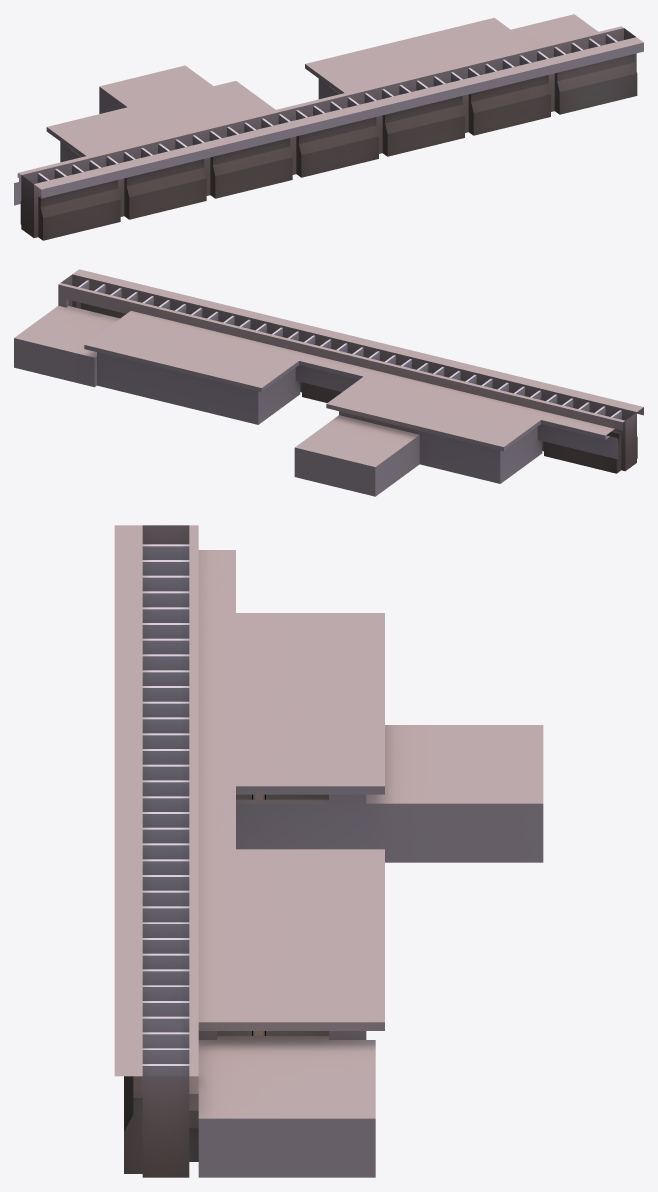
File: blockout3.fbx
The picture shows the model from 3 angles, top to bottom: view 1: azimuth 30°, elevation 25°; view 2: azimuth 150°, elevation 25°; view 3: azimuth 270°, elevation 25°; orthographic projection. The views are drawn at different scales.
Visible parts, largest first — view 1: Room.058, 0DIFF.001; view 2: Room.058, 0DIFF.001; view 3: Room.058, 0DIFF.001.
Boxes of the visible parts, <box> form: Room.058: <box>14,14,643,240</box>; 0DIFF.001: <box>37,34,617,182</box>; Room.058: <box>14,269,643,496</box>; 0DIFF.001: <box>78,280,621,419</box>; Room.058: <box>114,525,543,1177</box>; 0DIFF.001: <box>142,544,189,1076</box>.
Size of the model in its own units: 14000 by 1200 by 4600.
